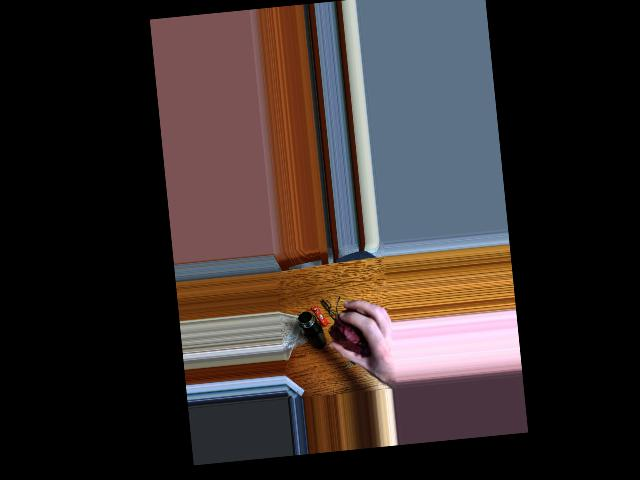onion: (330, 308, 373, 359)
